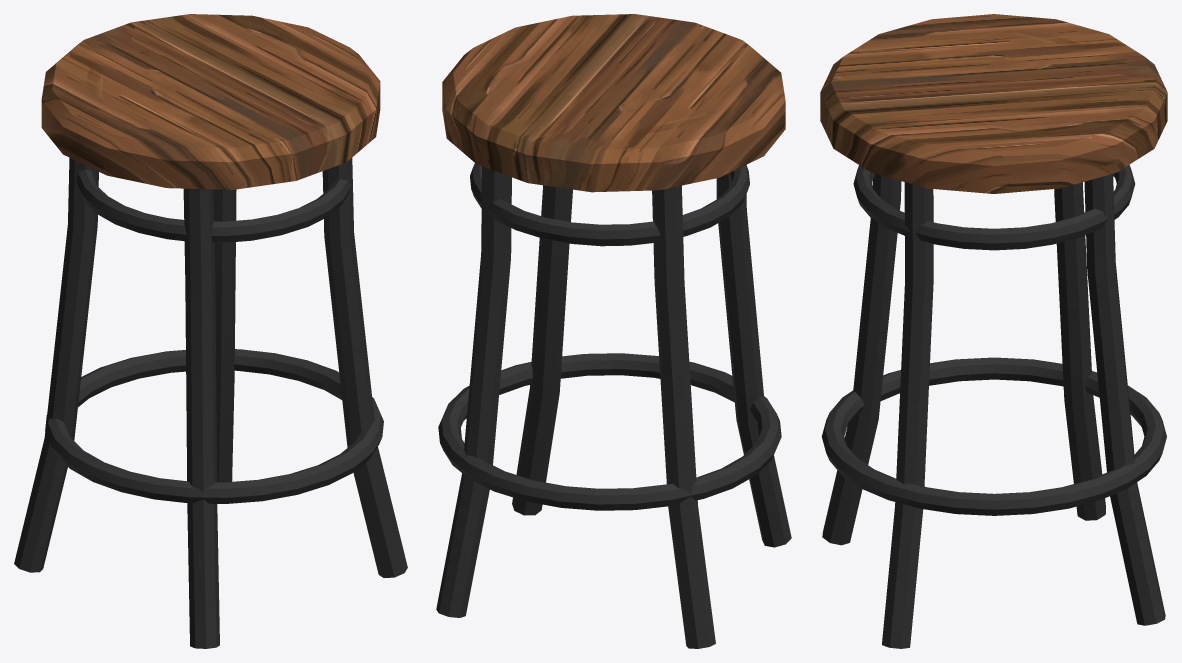
The model's file is Stool_4.fbx.
3 views of the same model, side by side, from view 1: azimuth 30°, elevation 25°; view 2: azimuth 150°, elevation 25°; view 3: azimuth 270°, elevation 25° (orthographic).
Visible parts, largest first — view 1: 1_Stool_4; view 2: 1_Stool_4; view 3: 1_Stool_4.
Boxes of the visible parts, bbox=[...] form: 1_Stool_4: bbox=[14, 14, 407, 648]; 1_Stool_4: bbox=[436, 14, 791, 648]; 1_Stool_4: bbox=[820, 14, 1167, 648].
Bounding box in the file's own units: 36.39 × 57.08 × 36.05.
